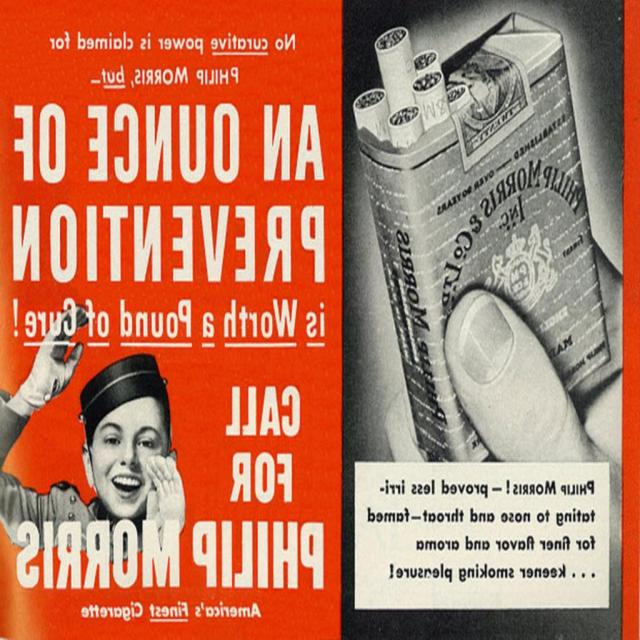smoking: (353, 11, 619, 463)
